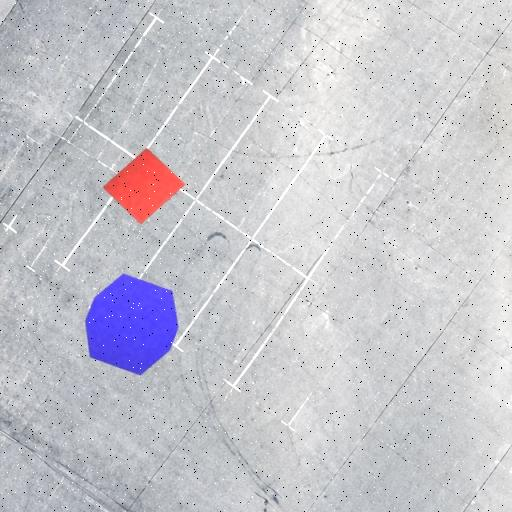RED_SQUARE: (102, 147, 186, 225)
